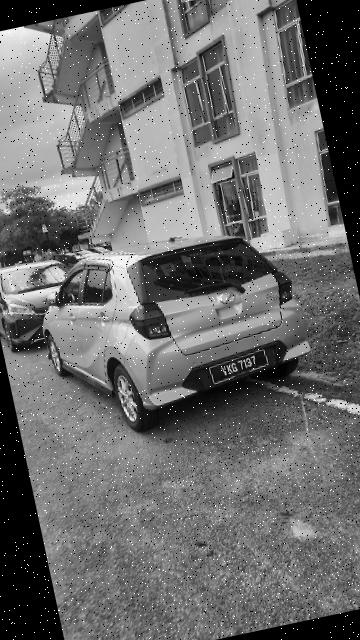License_Plate: (206, 348, 275, 388)
car: (31, 215, 329, 452), (1, 249, 93, 363)
